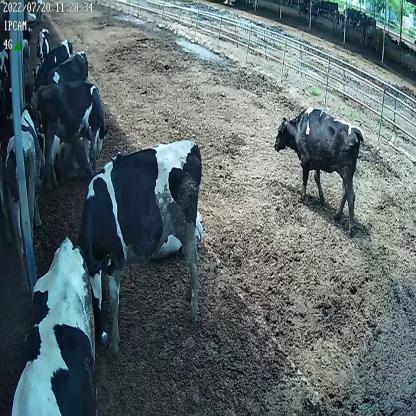cow: (74, 135, 203, 348), (274, 104, 366, 237), (34, 81, 104, 190), (8, 104, 45, 288), (31, 39, 74, 92), (41, 50, 90, 88), (35, 22, 51, 63)
